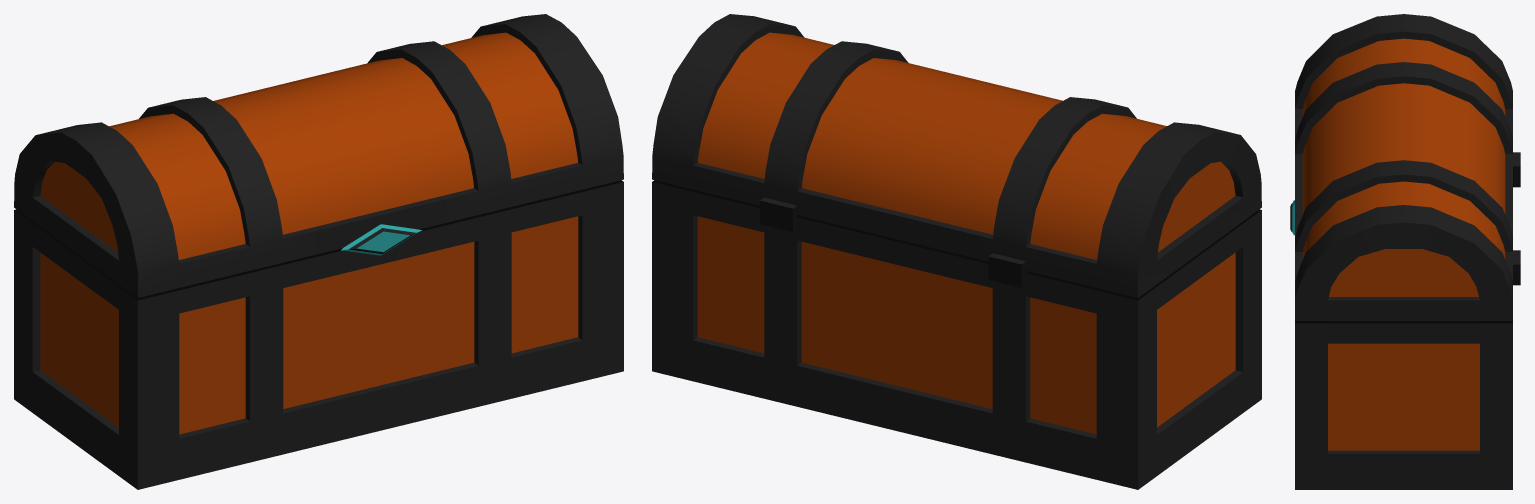
Rendered from CofreMSv3.fbx.
3 views of the same model, side by side, from view 1: azimuth 30°, elevation 25°; view 2: azimuth 150°, elevation 25°; view 3: azimuth 270°, elevation 25° (orthographic). The views are drawn at different scales.
Parts seen in each view (by area): view 1: Box001; view 2: Box001; view 3: Box001.
Part boxes in pixels (x1,y1,x2,y2): Box001: (14, 14, 623, 489); Box001: (652, 14, 1261, 489); Box001: (1290, 14, 1520, 489).
Bounding box in the file's own units: 50.42 × 30.04 × 23.44.
